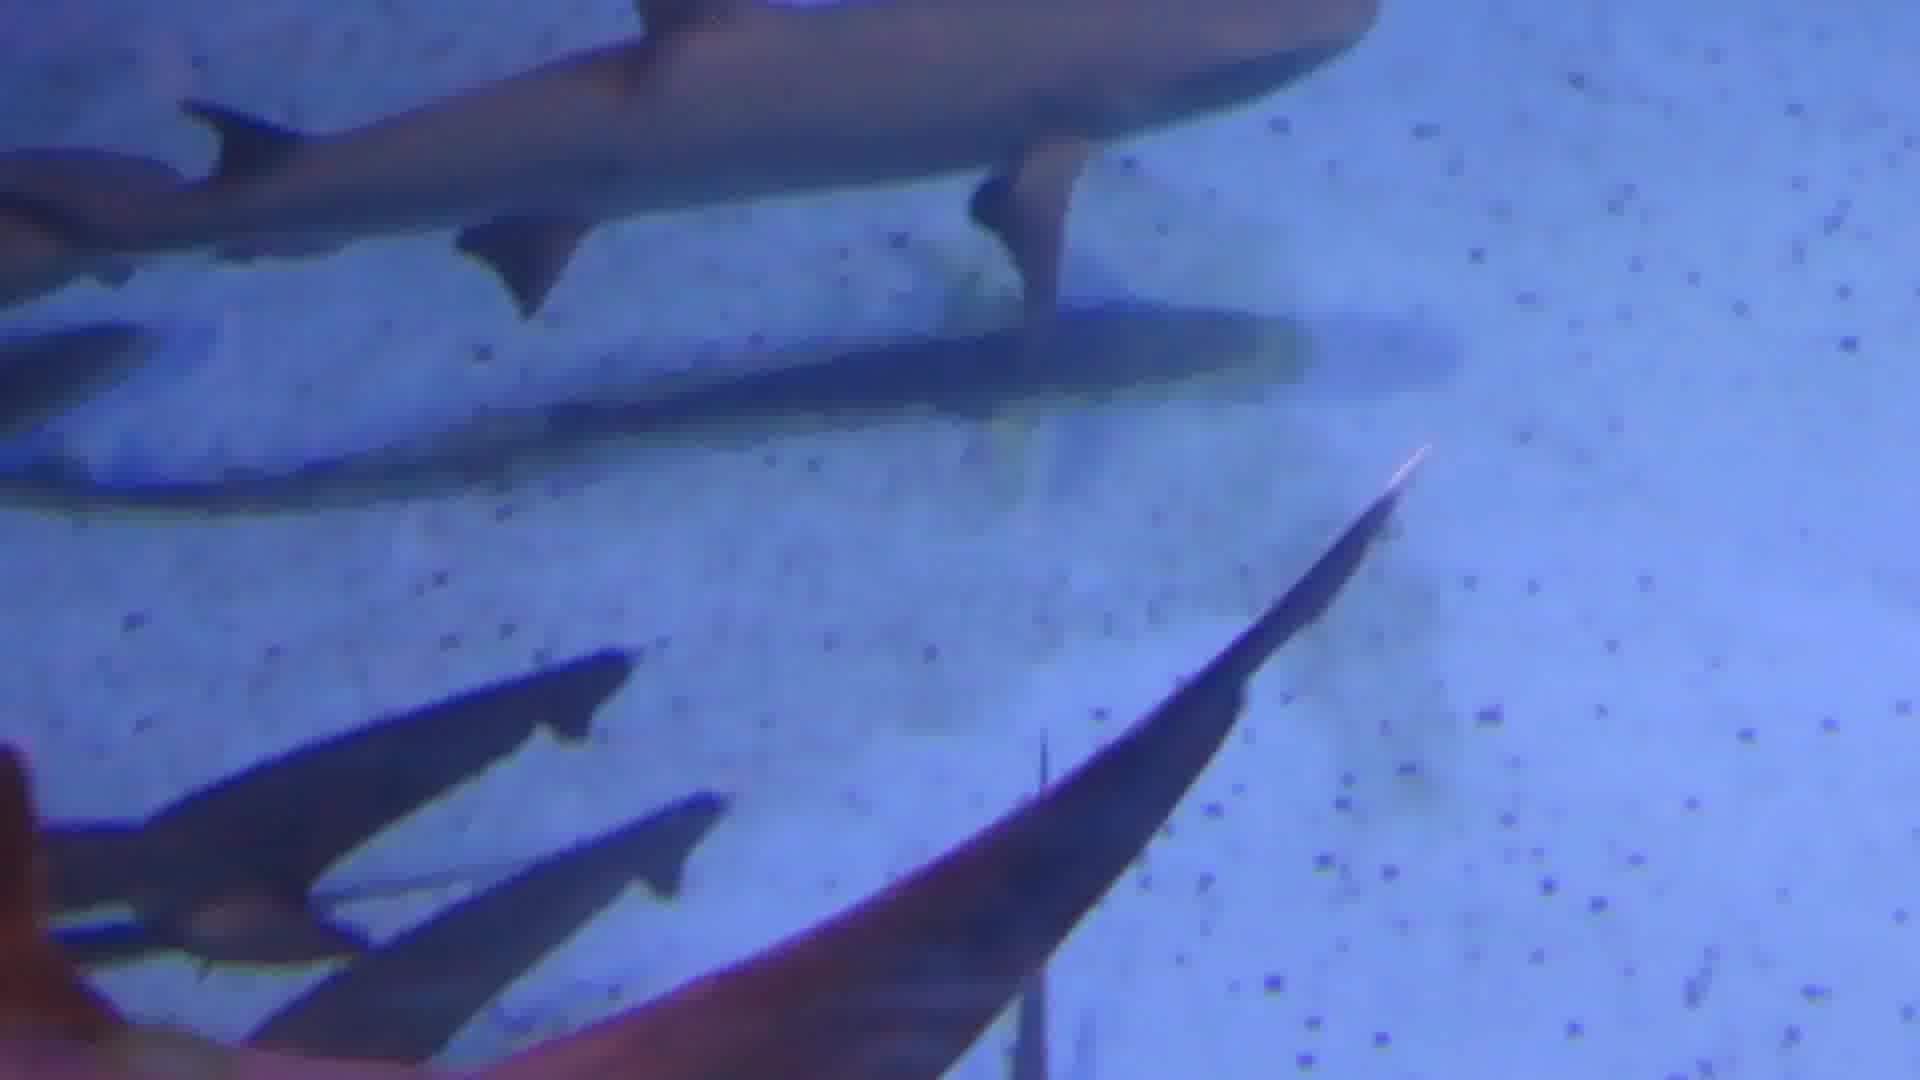Triaenodon obesus: (1, 1, 1465, 311)
